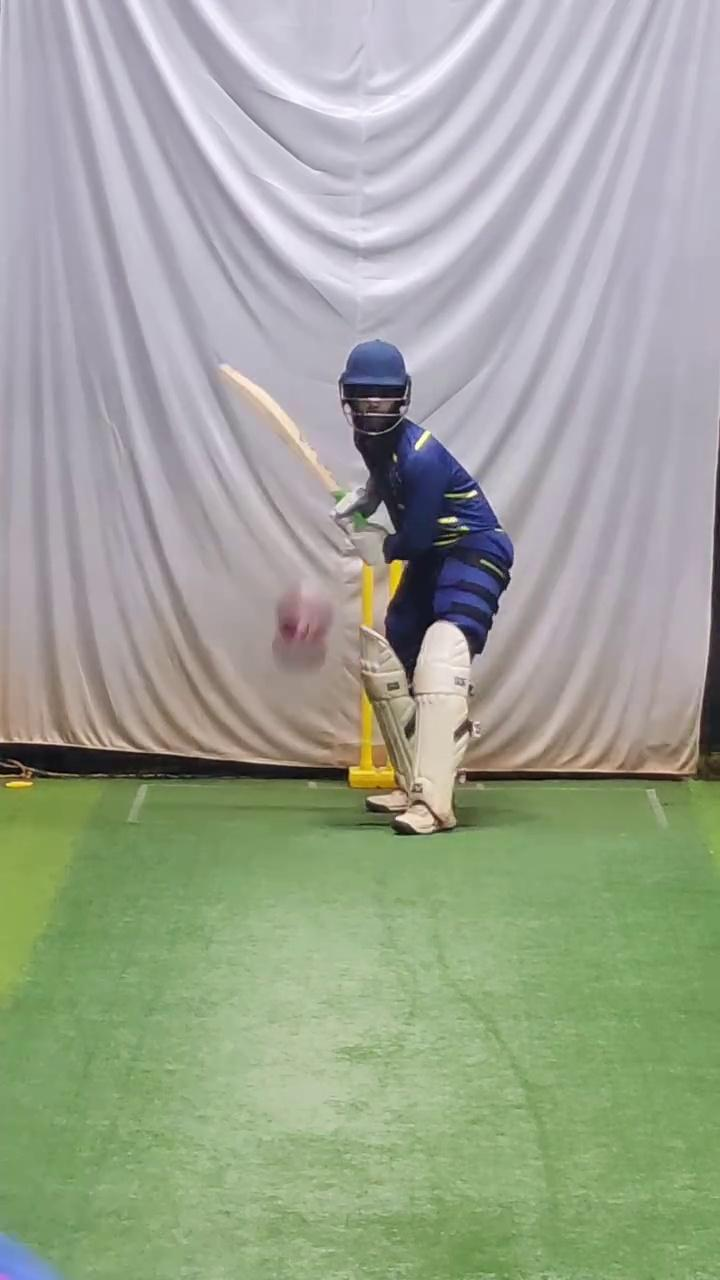bat: (212, 350, 344, 507)
